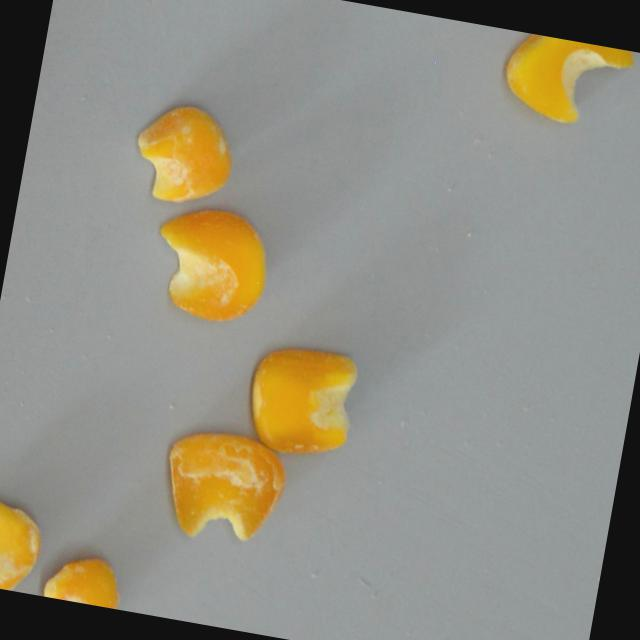dañado: (151, 423, 293, 553), (236, 334, 368, 469)
no_canjicado: (493, 28, 640, 139)
pelicula: (142, 195, 278, 332), (123, 93, 245, 215), (40, 542, 130, 610), (0, 490, 52, 595)
